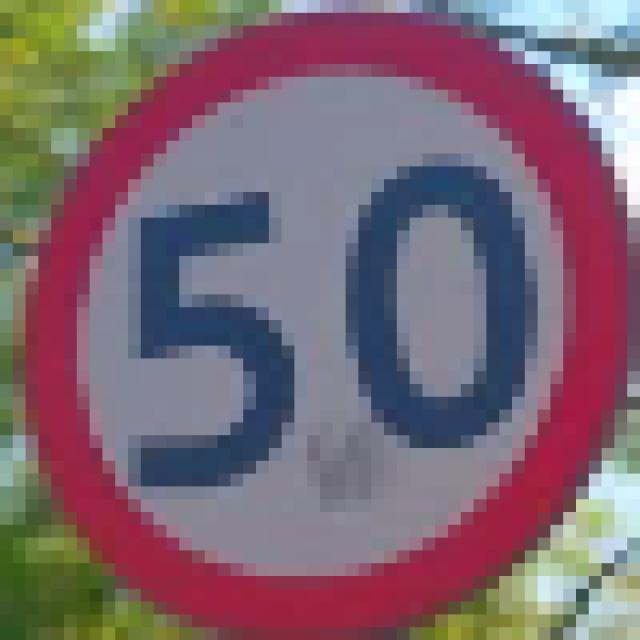Limite-50: (20, 6, 640, 640)
